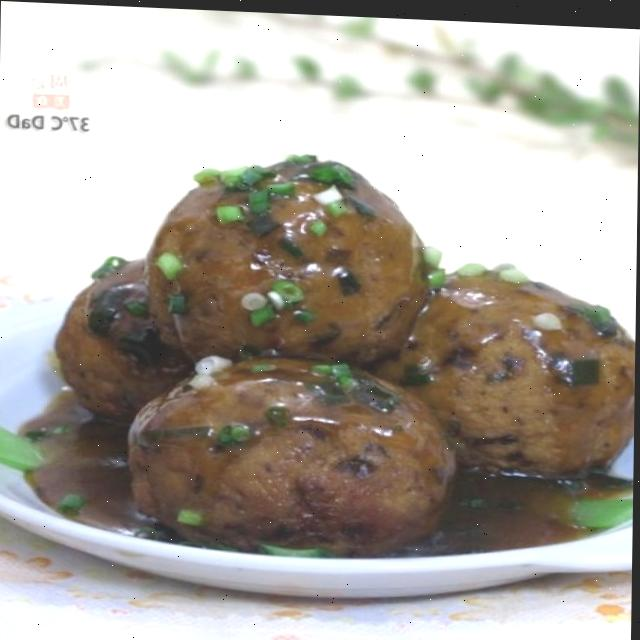猪肉菜式: (22, 113, 639, 595)
